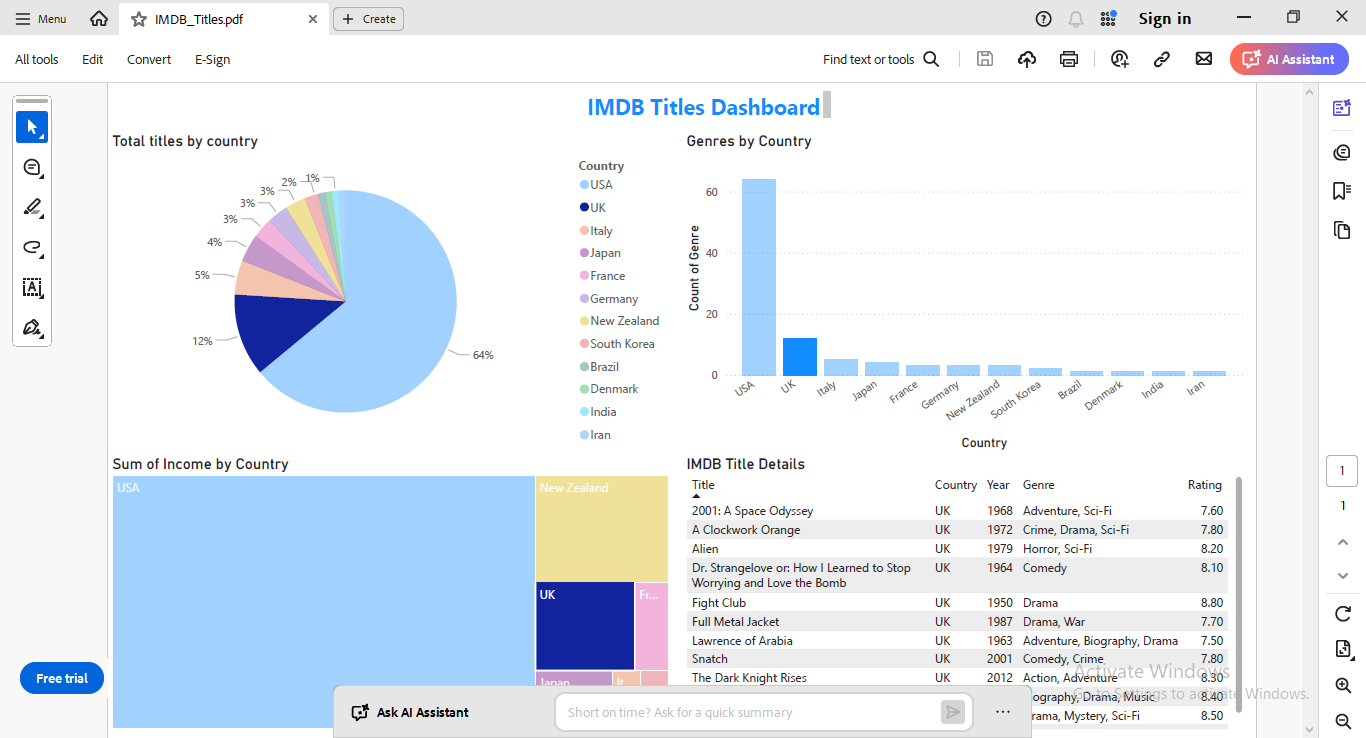

What the dashboard file says about the page in this screenshot:
{"tool":"powerbi","page":{"name":"Page 1","canvas":[1280,720],"ordinal":0},"visuals":[{"type":"pieChart","title":"Total titles by country","fields":{"Category":["messy_IMDB_dataset.Country"],"Y":["CountNonNull(messy_IMDB_dataset.IMBD title ID)"]},"box":[0,49.4,629.6,360],"z":0},{"type":"columnChart","title":"Genres by Country","fields":{"Category":["messy_IMDB_dataset.Country"],"Y":["CountNonNull(messy_IMDB_dataset.Genrë¨)"]},"box":[639.5,49.4,629.6,360],"z":1000},{"type":"treemap","title":"Sum of Income by Country","fields":{"Group":["messy_IMDB_dataset.Country"],"Values":["Sum(messy_IMDB_dataset.Income)"]},"box":[0,409.4,629.6,310.6],"z":2000},{"type":"tableEx","title":"IMDB Title Details","fields":{"Values":["messy_IMDB_dataset.Original titlÊ","messy_IMDB_dataset.Country","messy_IMDB_dataset.Release year","messy_IMDB_dataset.Genrë¨","messy_IMDB_dataset.Score"]},"box":[639.5,409.4,629.6,310.6],"z":3000},{"type":"textbox","box":[529.4,0,280.9,39.5],"z":4000}]}

Visuals, with their boxes on the page's 1280x720 design canvas (x1, y1, x2, y2). These are canvas units, not pixel positions in the 1366x738 screenshot, which may show the page scaled, cropped or inside an application window:
"Total titles by country" pieChart: <bbox>0, 49, 630, 409</bbox>
"Genres by Country" columnChart: <bbox>640, 49, 1269, 409</bbox>
"Sum of Income by Country" treemap: <bbox>0, 409, 630, 720</bbox>
"IMDB Title Details" tableEx: <bbox>640, 409, 1269, 720</bbox>
textbox: <bbox>529, 0, 810, 40</bbox>
